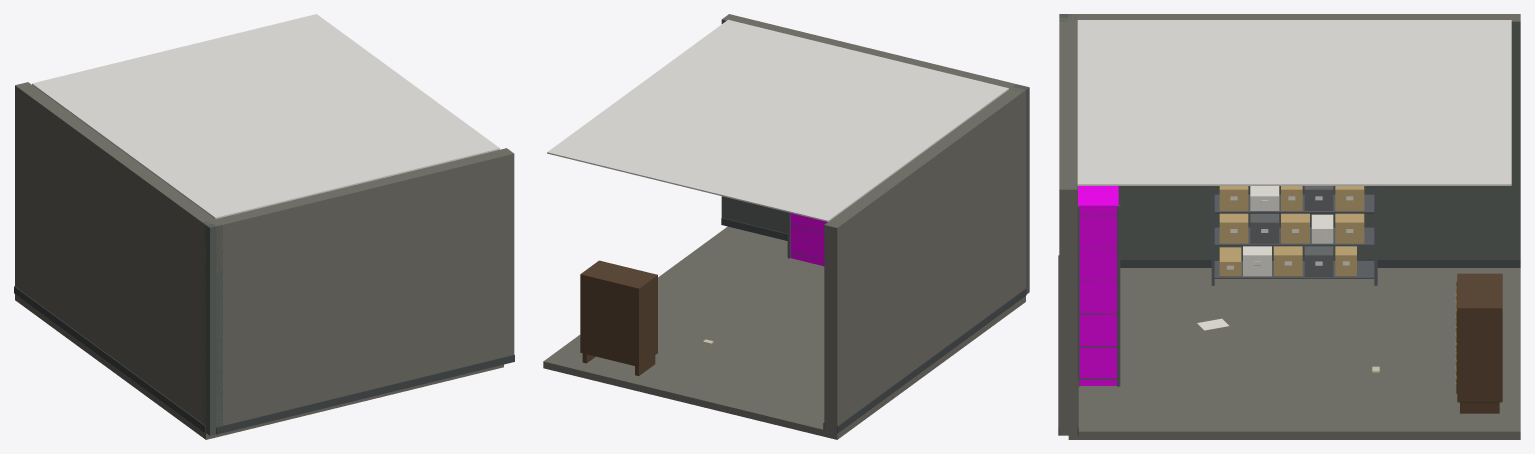
File: ENV_W0_ServiceStore.glb
3 views of the same model, side by side, from view 1: azimuth 30°, elevation 25°; view 2: azimuth 150°, elevation 25°; view 3: azimuth 270°, elevation 25° (orthographic). The views are drawn at different scales.
Visible parts, largest first — view 1: ENV_W0_ServiceStore_Architecture, ENV_W0_ServiceStore_Ceiling, ENV_W0_ServiceStore_Posts; view 2: ENV_W0_ServiceStore_Architecture, ENV_W0_ServiceStore_Ceiling, PROP_Cabinet_Card_Index_Mesh, PROP_Shelving_Archive_COL-colonly.001, ENV_W0_ServiceStore_Posts; view 3: ENV_W0_ServiceStore_Architecture, ENV_W0_ServiceStore_Ceiling, PROP_Shelving_Archive_Mesh, PROP_Shelving_Archive_COL-colonly.001, PROP_Cabinet_Card_Index_Mesh, PROP_Shelving_Archive_Mesh.001.
Part boxes in pixels (x1=…): ENV_W0_ServiceStore_Architecture: x1=14, y1=82, x2=514, y2=439; ENV_W0_ServiceStore_Ceiling: x1=32, y1=14, x2=499, y2=218; ENV_W0_ServiceStore_Posts: x1=202, y1=221, x2=222, y2=435; ENV_W0_ServiceStore_Architecture: x1=543, y1=14, x2=1026, y2=439; ENV_W0_ServiceStore_Ceiling: x1=547, y1=19, x2=1008, y2=221; PROP_Cabinet_Card_Index_Mesh: x1=580, y1=260, x2=657, y2=375; PROP_Shelving_Archive_COL-colonly.001: x1=790, y1=213, x2=827, y2=266; ENV_W0_ServiceStore_Posts: x1=1010, y1=84, x2=1029, y2=293; ENV_W0_ServiceStore_Architecture: x1=1058, y1=14, x2=1520, y2=439; ENV_W0_ServiceStore_Ceiling: x1=1077, y1=20, x2=1511, y2=185; PROP_Shelving_Archive_Mesh: x1=1211, y1=186, x2=1377, y2=285; PROP_Shelving_Archive_COL-colonly.001: x1=1078, y1=186, x2=1118, y2=385; PROP_Cabinet_Card_Index_Mesh: x1=1455, y1=273, x2=1502, y2=413; PROP_Shelving_Archive_Mesh.001: x1=1077, y1=186, x2=1120, y2=386.
Size of what is drawn, in the model's own units: 4.61 by 3.12 by 5.11.
